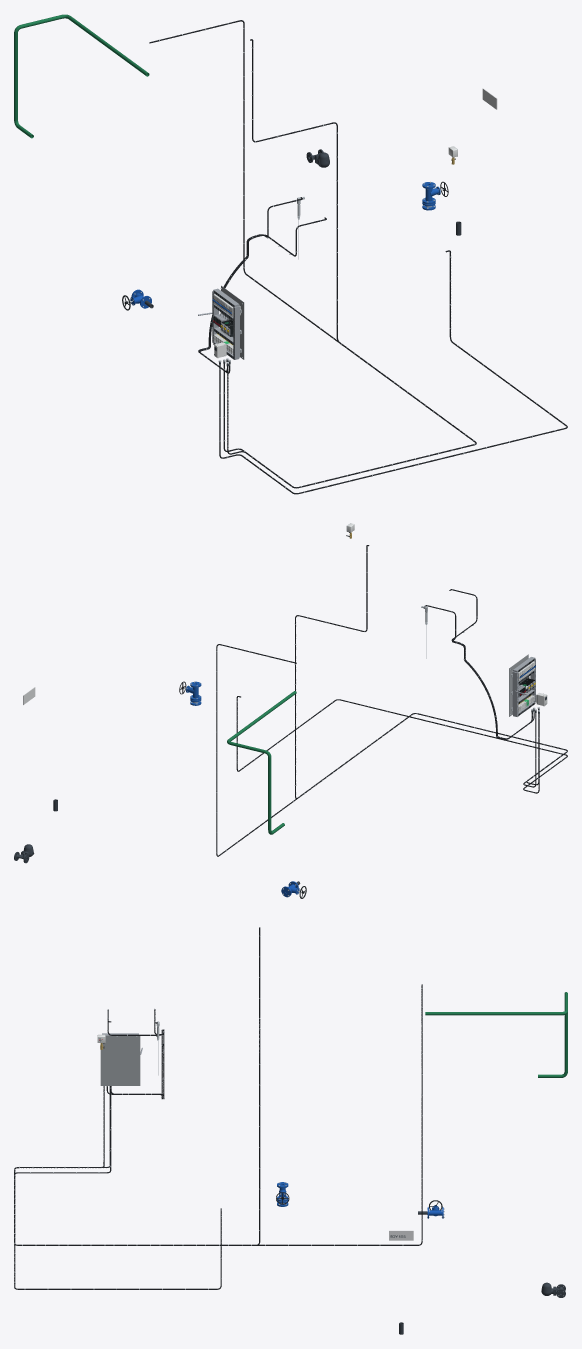
3 renders of one model, top to bottom at view 1: azimuth 30°, elevation 25°; view 2: azimuth 150°, elevation 25°; view 3: azimuth 270°, elevation 25°, orthographic. The views are drawn at different scales.
Visible parts, largest first — view 1: cabinet_interior / cabinet_interior_0.npz, gpz_drive_cable / black, mod_eco_drive_cable / black, wiring_pump_1 / black, from_economizer / green; view 2: cabinet_interior / cabinet_interior_0.npz, mod_eco_drive_cable / black, wiring_pump_1 / black, gpz_drive_cable / black, from_economizer / green; view 3: cabinet_interior / cabinet_interior_0.npz, gpz_drive_cable / black, mod_eco_drive_cable / black, from_economizer / green, wiring_pump_1 / black.
Boxes of the visible parts, bbox=[...] form: cabinet_interior / cabinet_interior_0.npz: bbox=[198, 285, 244, 359]; gpz_drive_cable / black: bbox=[227, 39, 476, 488]; mod_eco_drive_cable / black: bbox=[149, 20, 476, 488]; wiring_pump_1 / black: bbox=[219, 250, 567, 494]; from_economizer / green: bbox=[14, 14, 149, 138]; cabinet_interior / cabinet_interior_0.npz: bbox=[509, 654, 535, 716]; mod_eco_drive_cable / black: bbox=[216, 644, 567, 856]; wiring_pump_1 / black: bbox=[236, 696, 567, 793]; gpz_drive_cable / black: bbox=[295, 545, 567, 798]; from_economizer / green: bbox=[227, 691, 296, 834]; cabinet_interior / cabinet_interior_0.npz: bbox=[100, 1033, 142, 1085]; gpz_drive_cable / black: bbox=[14, 927, 260, 1245]; mod_eco_drive_cable / black: bbox=[14, 984, 422, 1245]; from_economizer / green: bbox=[425, 992, 567, 1077]; wiring_pump_1 / black: bbox=[14, 1093, 221, 1289].
Bounding box in the file's own units: 5.45 × 3.98 × 6.76.
